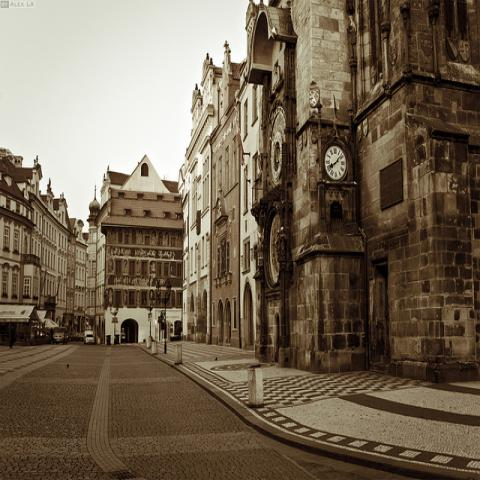car: (52, 326, 68, 346), (84, 333, 95, 344), (68, 332, 80, 342)
